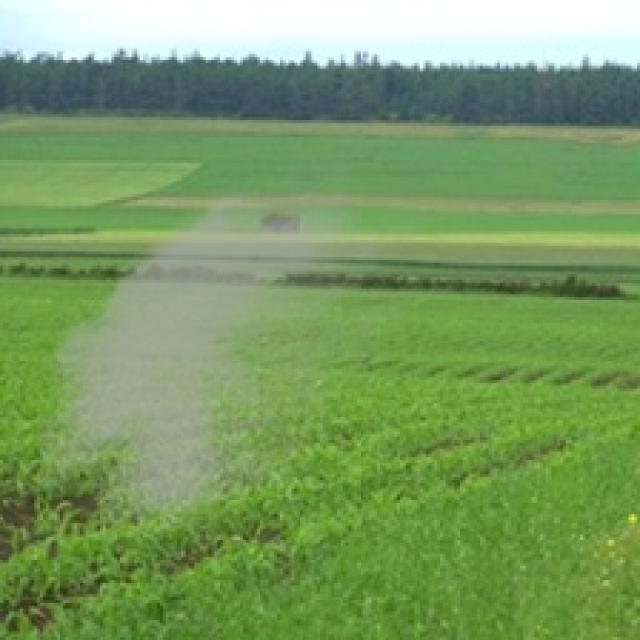smoke: (20, 146, 443, 557)
